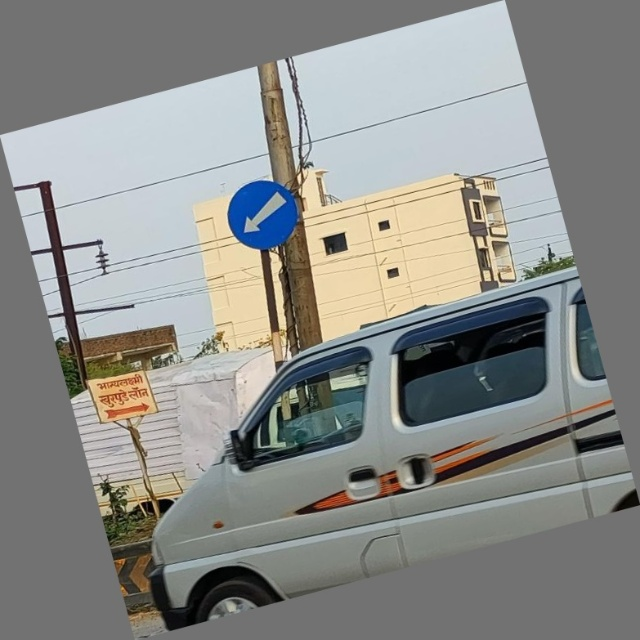R.301e: (215, 169, 314, 265)
